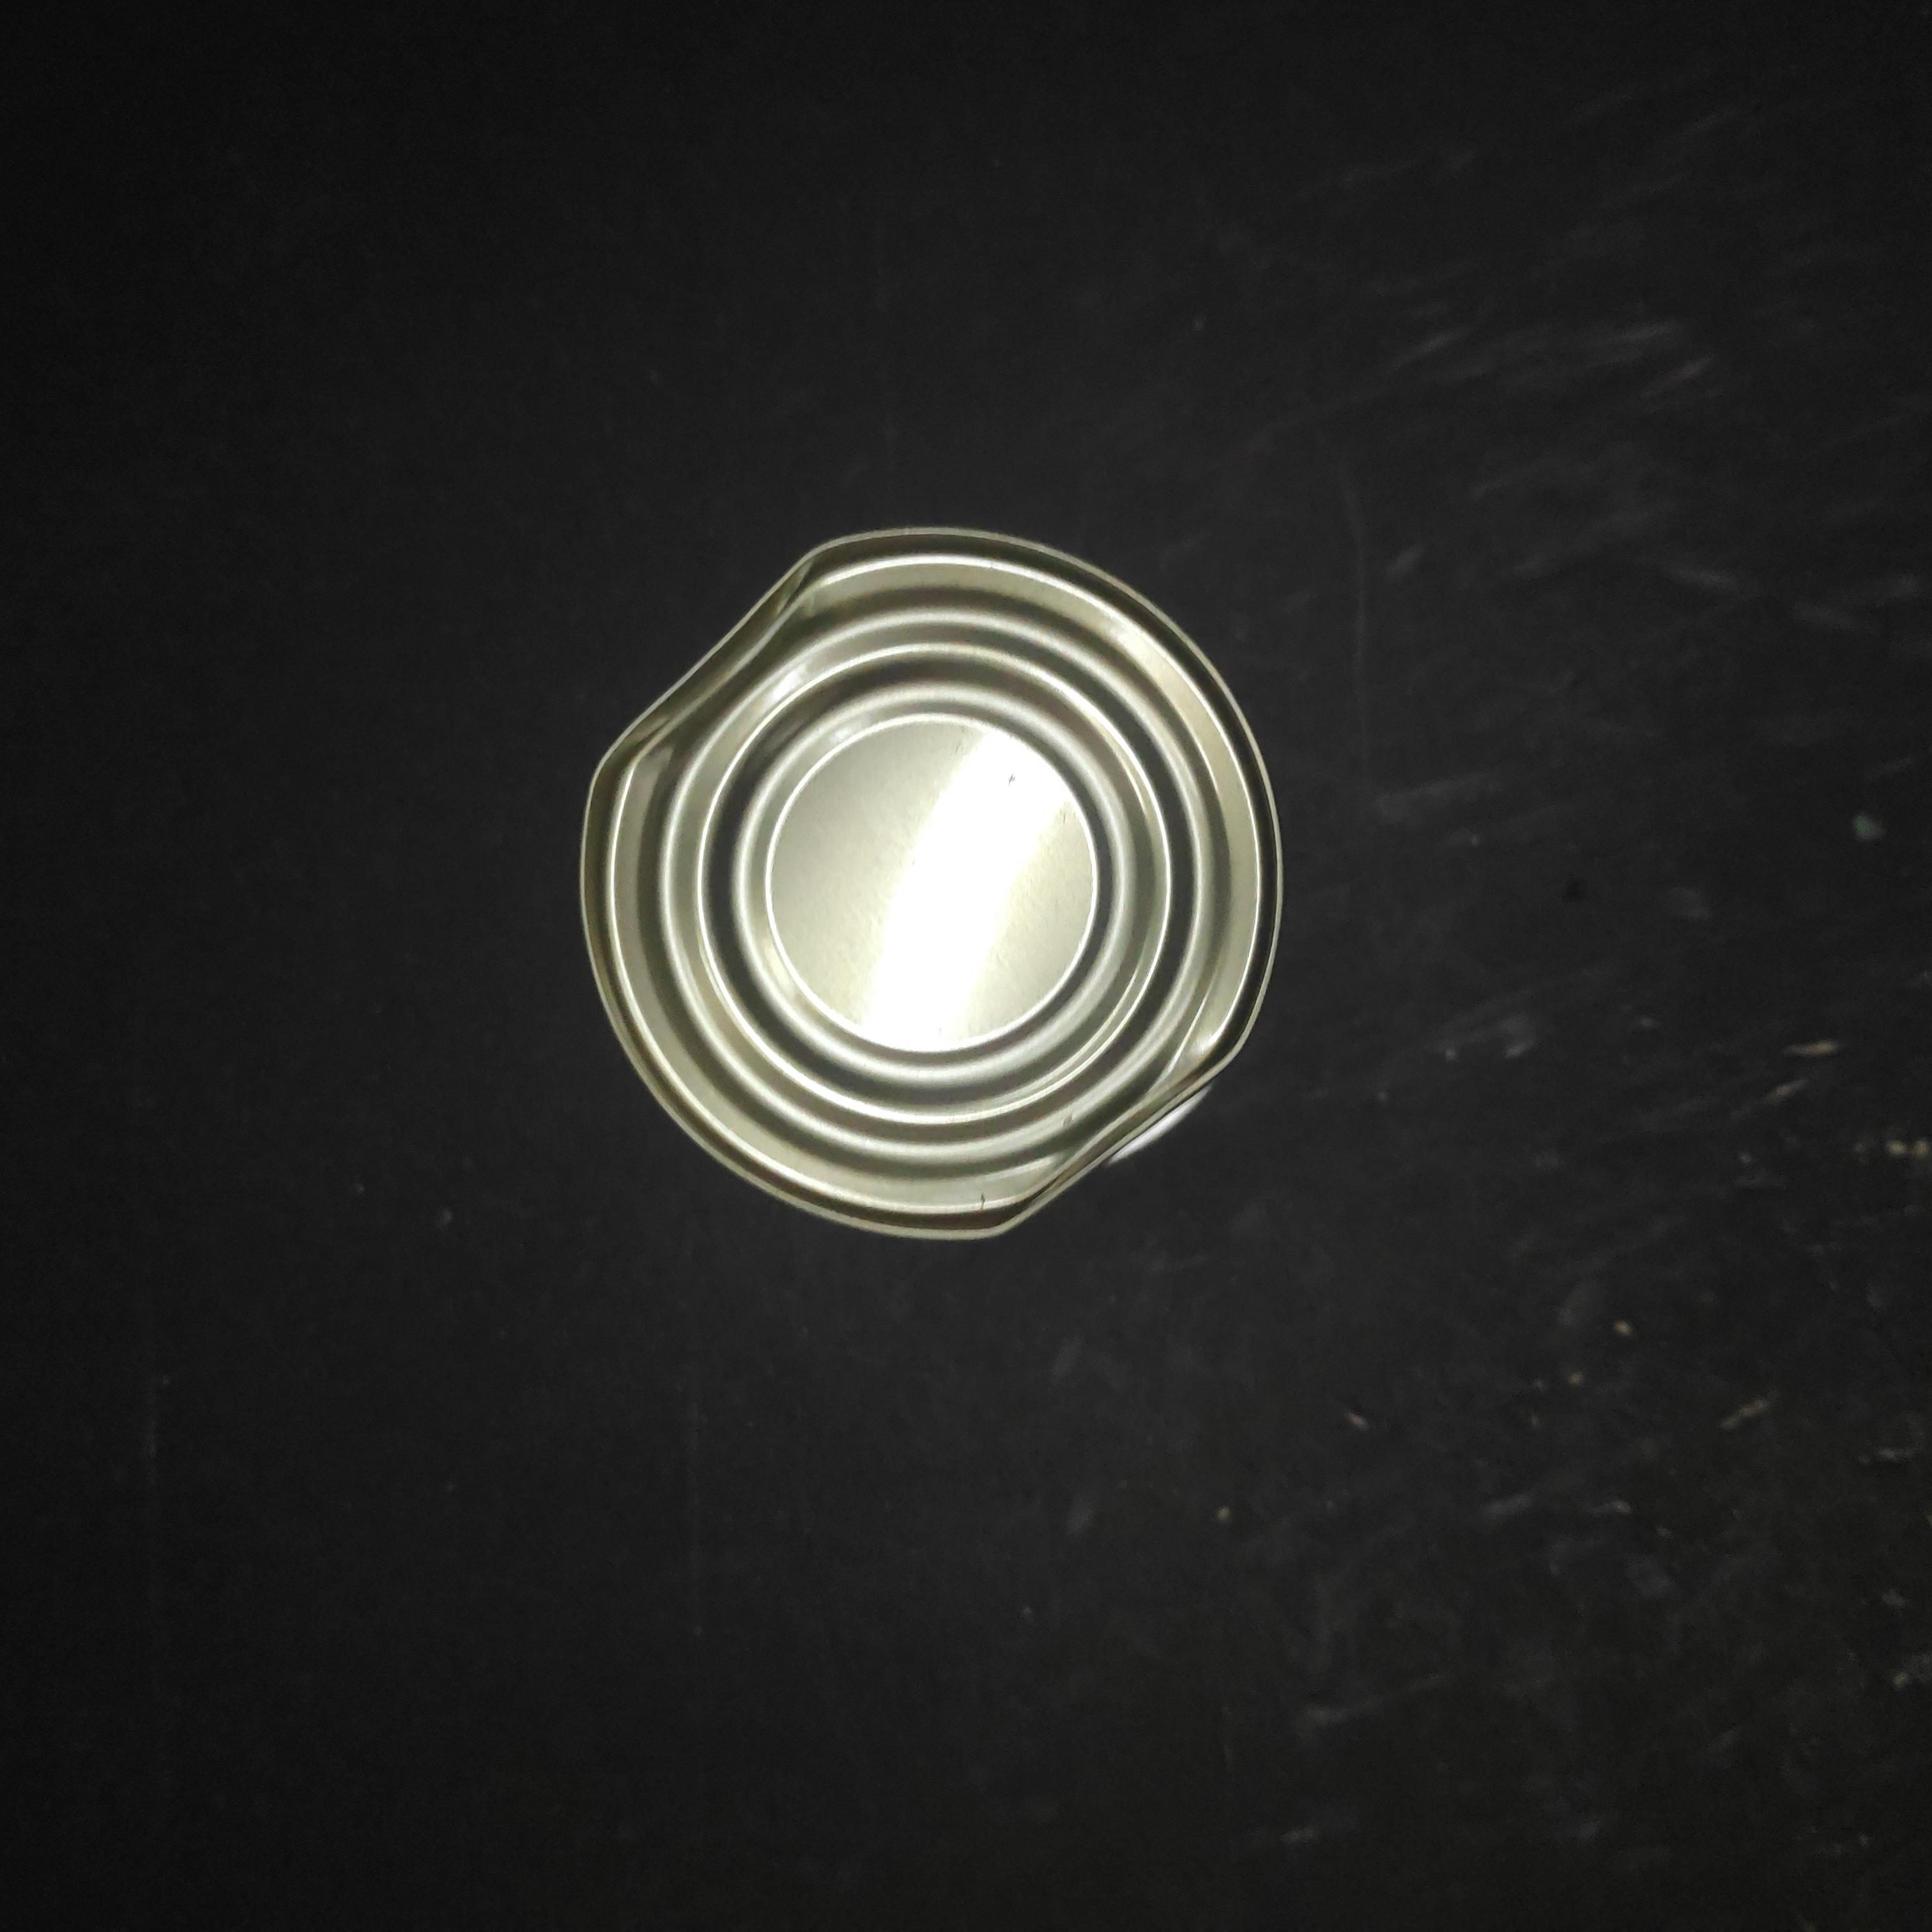Minor Defect: (647, 691, 1367, 1425)
